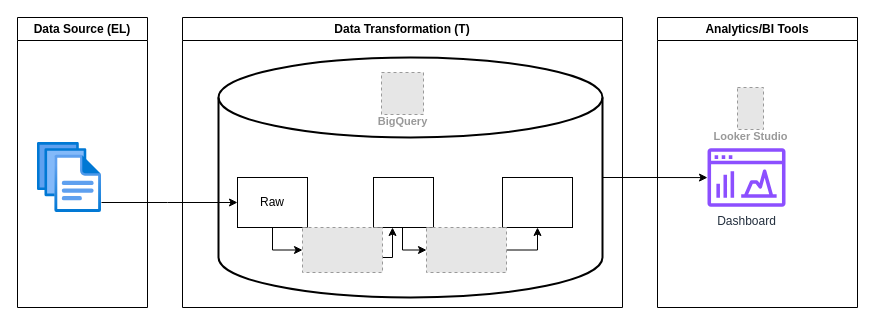
Some shapes in this 875 by 325 pixel diagram are drawn without their labels. Grey dashed boxes stand in for pictures. The centre of each missing label's shape, as x and y in pixels:
raw csv files: point 69,177
staging: point 403,202
warehouse: point 537,202
